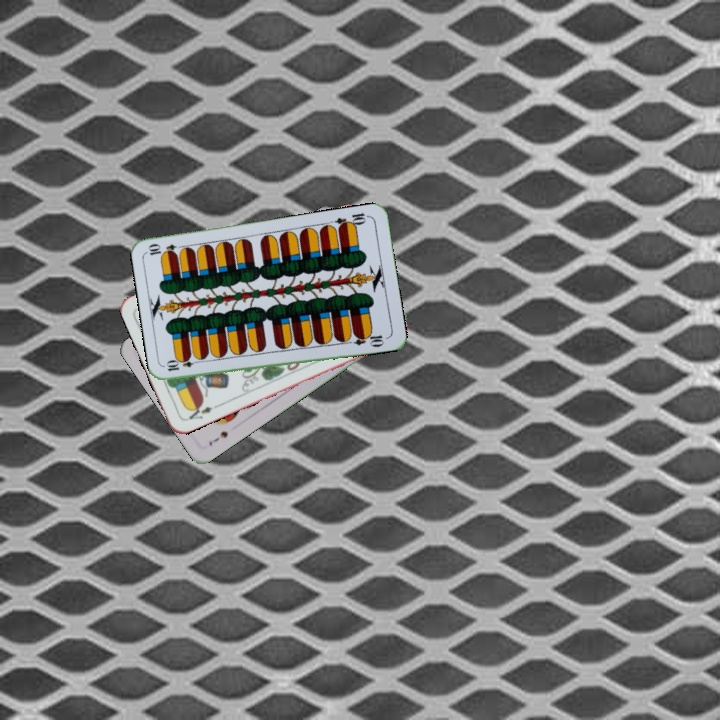E10: (331, 209, 372, 232), (162, 355, 203, 374)
EA: (182, 400, 215, 424)
S7: (205, 427, 231, 449)
